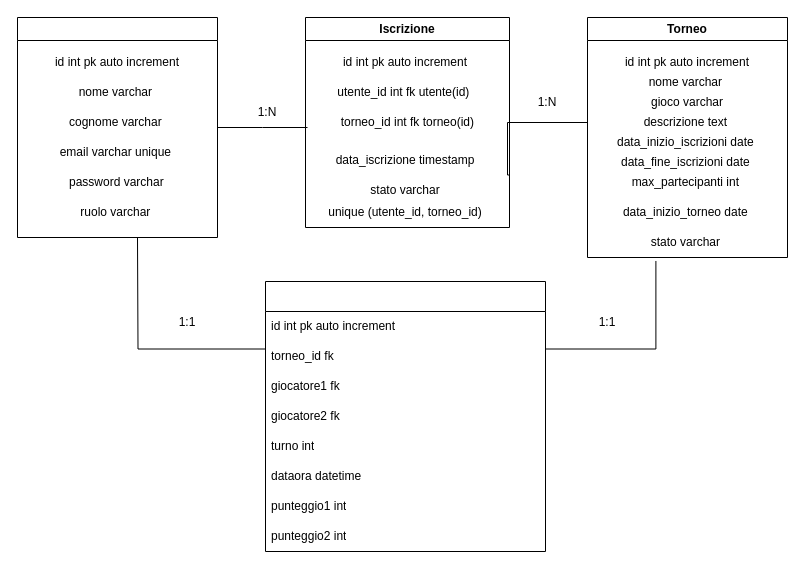
Image size: 805x569. Some labels were removed from this diagram. The shapes that lost their labels are listed below. From the top down, each one's box as (x1, y1, x2, y2) in pixels, then its label:
(16, 16, 218, 238): Utente
(264, 280, 546, 552): Partita
